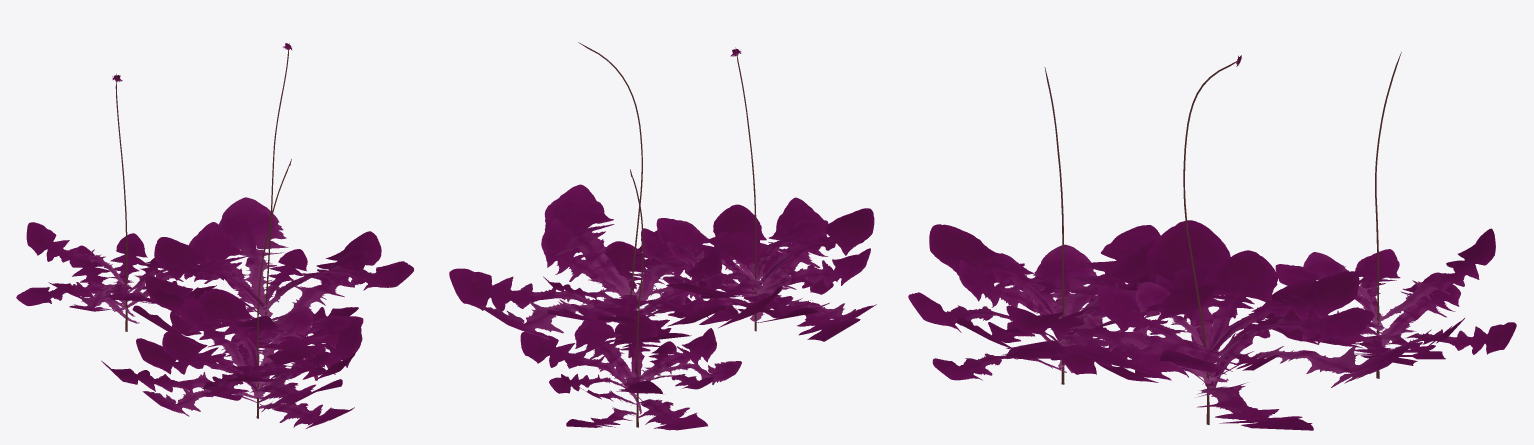
3 renders of one model, left to right at view 1: azimuth 30°, elevation 25°; view 2: azimuth 150°, elevation 25°; view 3: azimuth 270°, elevation 25°, orthographic. The views are drawn at different scales.
Parts seen in each view (by area): view 1: SM_GF_Dandelion_02_LOD0; view 2: SM_GF_Dandelion_02_LOD0; view 3: SM_GF_Dandelion_02_LOD0.
Boxes of the visible parts, x1=… form: SM_GF_Dandelion_02_LOD0: x1=16, y1=43, x2=413, y2=428; SM_GF_Dandelion_02_LOD0: x1=449, y1=42, x2=876, y2=430; SM_GF_Dandelion_02_LOD0: x1=908, y1=52, x2=1516, y2=430.
Size of the model in its own units: 0.5808 by 0.5457 by 0.719.
1 material, 1 textured.
